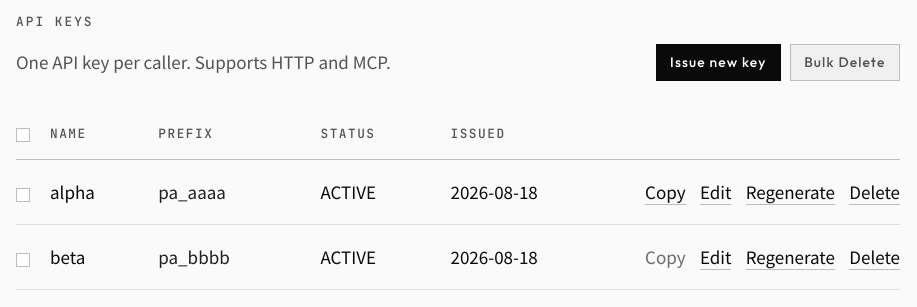
Test: KeysScreen bulk select › should_check_every_row_when_select_all_is_checked
Check: the checkbox with test id "keys-select-alpha" is shown, box [16,188,30,202]
What coordinates should you click on to do the following:
click the checkbox with test id "keys-select-all"
I would click on:
 (23, 135)
Its box is [16,128,30,142].
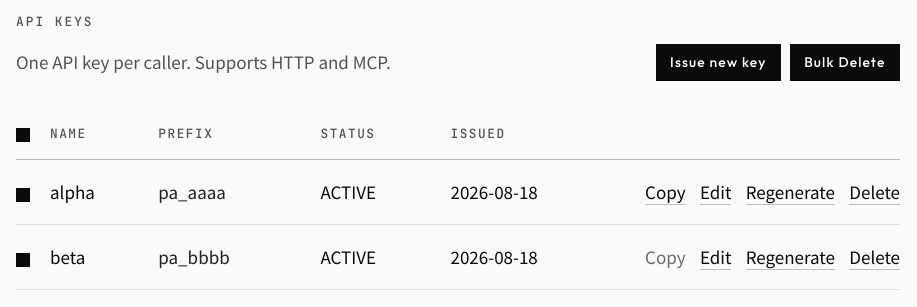
Check: the checkbox with test id "keys-select-alpha" is checked, box [16,188,30,202]
Check: the checkbox with test id "keys-select-beta" is checked, box [16,253,30,267]
Check: the button with test id "keys-delete-selected" is enabled, box [790,44,900,81]
